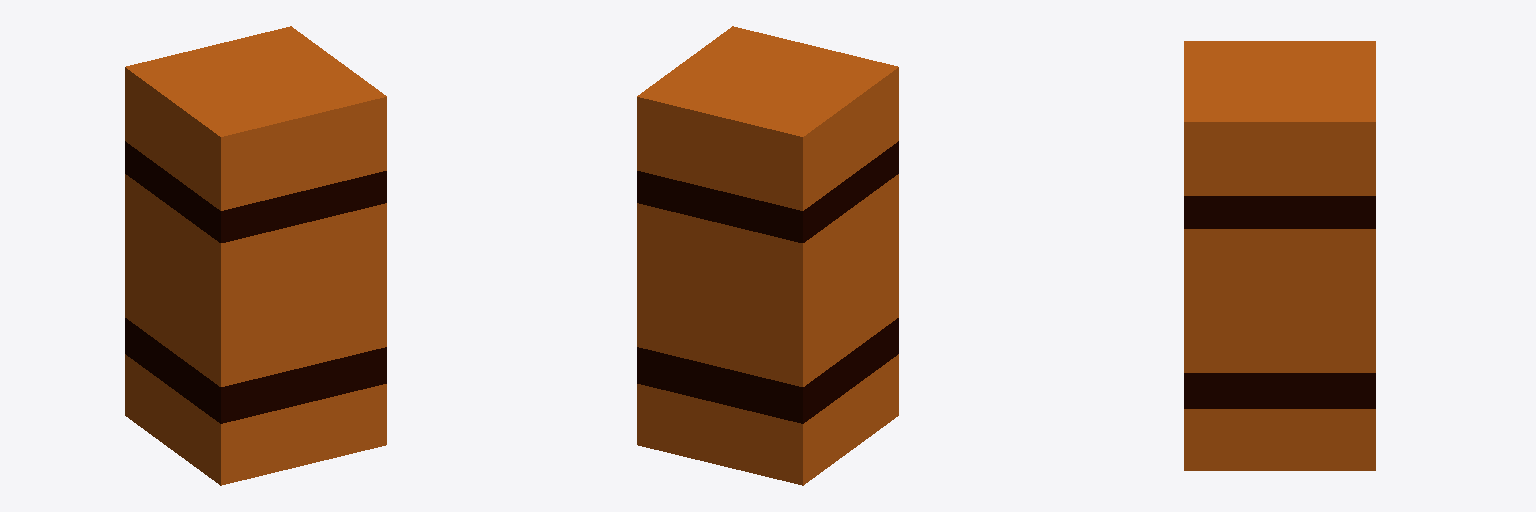
The model's file is Wall.obj.
The picture shows the model from 3 angles: view 1: azimuth 30°, elevation 25°; view 2: azimuth 150°, elevation 25°; view 3: azimuth 270°, elevation 25°; orthographic projection.
Visible parts, largest first — view 1: Cube; view 2: Cube; view 3: Cube.
Part boxes in pixels (x1,y1,x2,y2): Cube: (125,26,386,485); Cube: (637,26,898,485); Cube: (1184,41,1375,470).
Bounding box in the file's own units: 2 × 4 × 2.